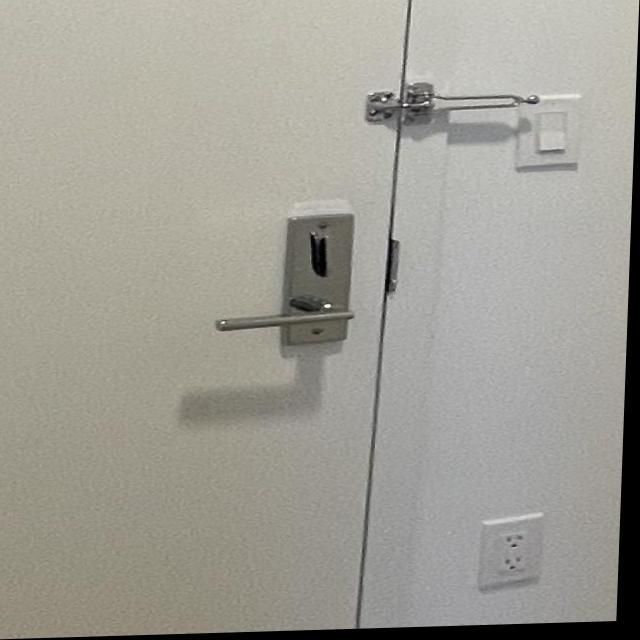door_handle: (194, 295, 375, 348)
